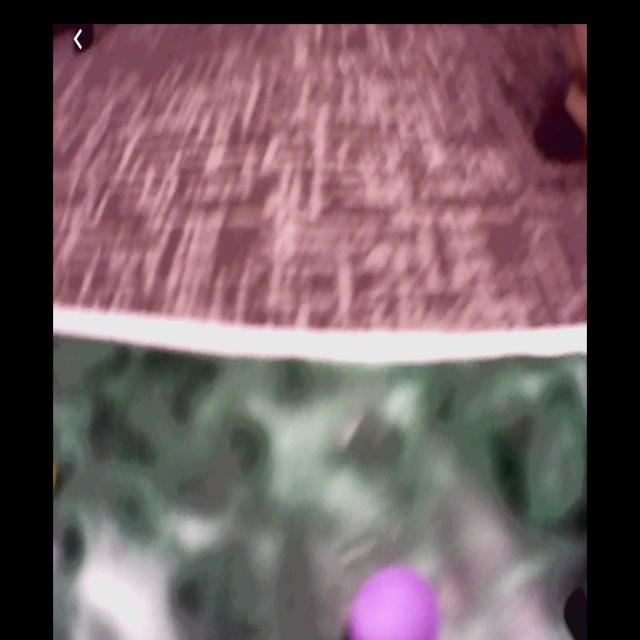ball: (347, 569, 439, 640)
